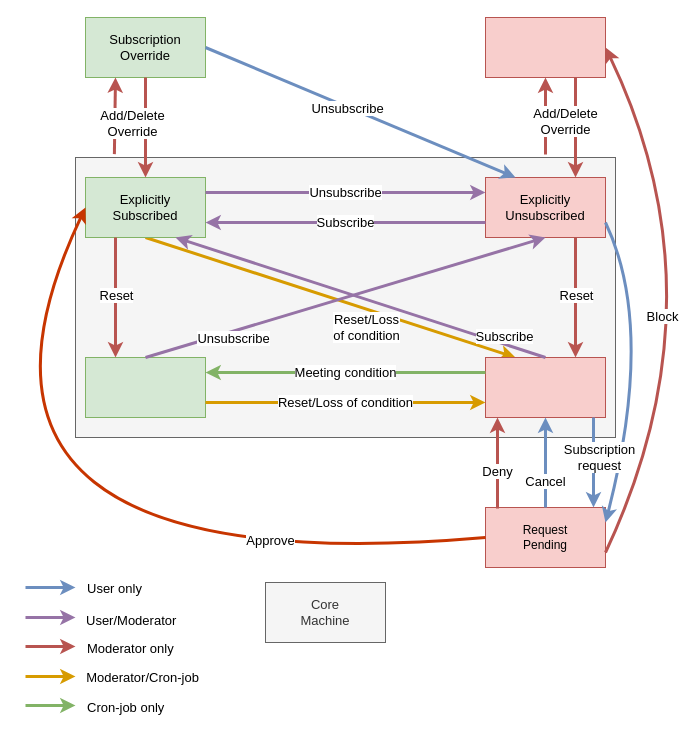
Some shapes in this 696 by 735 pixel diagram are drawn without their labels. The shapes that lost their labels are listed below. From the top down, each one's box as (x1, y1, x2, y2) in pixels, then its label:
(484, 16, 606, 78): Unsubscription Override
(84, 356, 206, 418): Implicitly Subscribed
(484, 356, 606, 418): (Not subscribed)
